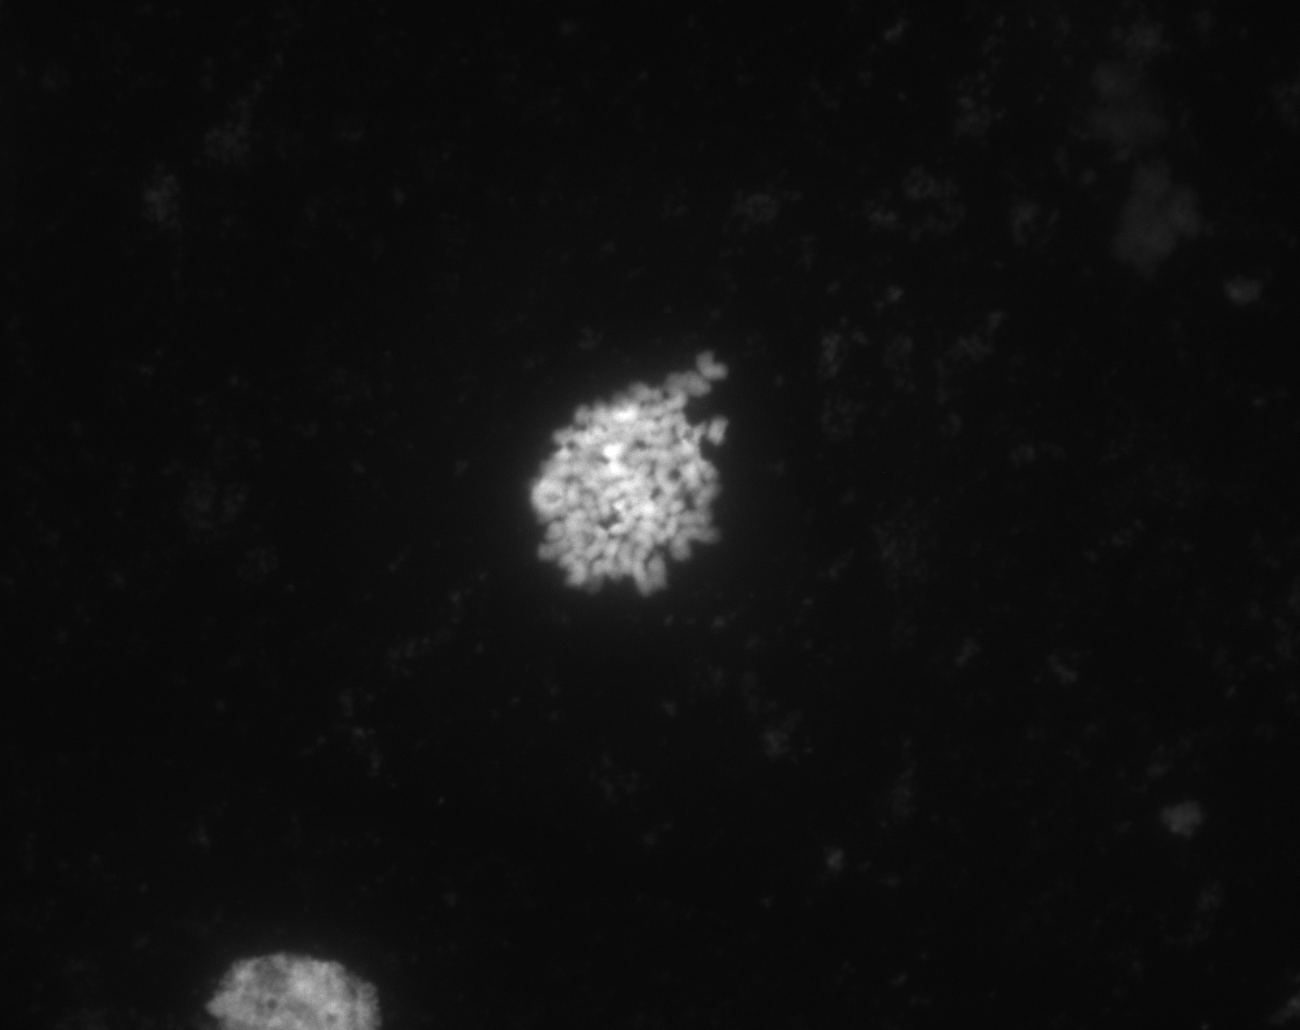Chromosomes: (485, 341, 748, 622)
Others: (161, 914, 412, 1030)
